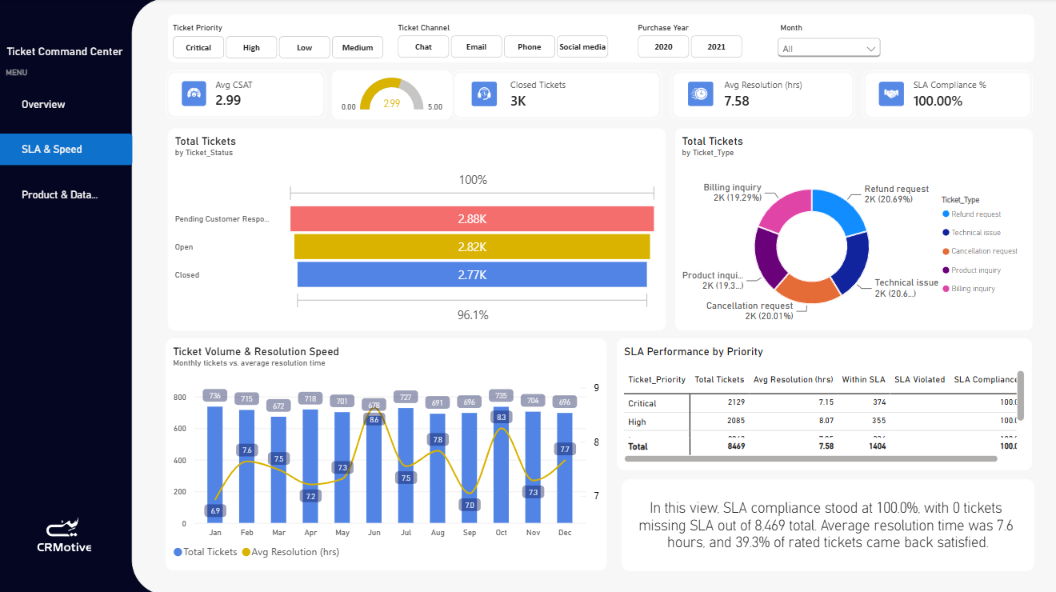

Layout of this report page (visuals, bound fields, positions):
{"tool":"powerbi","page":{"name":"SLA & Speed","canvas":[1280,720],"ordinal":1},"visuals":[{"type":"image","box":[0,0,205.2,719.9],"z":0},{"type":"actionButton","box":[0,108.8,163.8,38.8],"z":1000},{"type":"textbox","box":[10.3,77.8,92.3,32.5],"z":2000},{"type":"shape","box":[206,19.3,1045.4,58],"z":3000},{"type":"cardVisual","fields":{"Data":["FactTickets.Avg CSAT"]},"box":[203.8,87.3,193.8,58.8],"z":4000},{"type":"gauge","fields":{"Y":["FactTickets.Avg CSAT"]},"box":[403.8,87.3,144.8,59.3],"z":5000},{"type":"advancedSlicerVisual","title":"Ticket Priority","fields":{"Values":["DimPriority.Ticket_Priority"]},"box":[212.5,30,310,47.5],"z":6000},{"type":"advancedSlicerVisual","title":"Ticket Channel","fields":{"Values":["DimChannel.Ticket_Channel"]},"box":[483.8,30,270,47.5],"z":7000},{"type":"advancedSlicerVisual","title":"Purchase Year","fields":{"Values":["FactTickets.Purchase_Year"]},"box":[773.8,30,133.8,50],"z":8000},{"type":"slicer","title":"Purchase Month","fields":{"Values":["DimDate.Month"]},"box":[937.5,30,133.8,47.5],"z":9000},{"type":"actionButton","box":[0,162.5,163.8,38.8],"z":10000},{"type":"actionButton","box":[0,218.8,163.8,38.8],"z":11000},{"type":"cardVisual","fields":{"Data":["FactTickets.Closed Tickets"]},"box":[549.2,87.3,253.9,59.3],"z":12000},{"type":"funnel","fields":{"Category":["DimStatus.Ticket_Status"],"Y":["FactTickets.Total Tickets"]},"box":[206.1,156.5,600.7,244.2],"z":13000},{"type":"donutChart","fields":{"Category":["DimTicketType.Ticket_Type"],"Y":["FactTickets.Total Tickets"]},"box":[818,157.3,432,244],"z":14000},{"type":"lineClusteredColumnComboChart","title":"Ticket Volume & Resolution Speed","fields":{"Category":["DimDate.Month"],"Y":["FactTickets.Total Tickets"],"Y2":["FactTickets.Avg Resolution (hrs)"]},"box":[203.6,410,531.8,280],"z":15000},{"type":"pivotTable","title":"SLA Performance by Priority","fields":{"Rows":["DimPriority.Ticket_Priority"],"Values":["FactTickets.Total Tickets","FactTickets.Avg Resolution (hrs)","FactTickets.Within SLA","FactTickets.SLA Violated","FactTickets.SLA Compliance %"]},"box":[748.2,410,500.9,159.1],"z":16000},{"type":"cardVisual","fields":{"Data":["FactTickets.Avg Resolution (hrs)"]},"box":[813.3,87.3,222,59.3],"z":17000},{"type":"cardVisual","fields":{"Data":["FactTickets.SLA Compliance %"]},"box":[1044.9,87.3,205,59.3],"z":18000},{"type":"card","fields":{"Values":["FactTickets.Auto Summary Text sla&speed"]},"box":[753.8,580,497.5,110],"z":19000},{"type":"image","box":[41,623.7,80.8,45.8],"z":20000},{"type":"actionButton","box":[0,36.2,164.1,57.9],"z":20001}]}

Visuals, with their boxes on the page's 1280x720 design canvas (x1, y1, x2, y2). These are canvas units, not pixel positions in the 1056x592 screenshot, which may show the page scaled, cropped or inside an application window:
image: (x1=0, y1=0, x2=205, y2=720)
actionButton: (x1=0, y1=109, x2=164, y2=148)
textbox: (x1=10, y1=78, x2=103, y2=110)
shape: (x1=206, y1=19, x2=1251, y2=77)
cardVisual - FactTickets.Avg CSAT: (x1=204, y1=87, x2=398, y2=146)
gauge - FactTickets.Avg CSAT: (x1=404, y1=87, x2=549, y2=147)
"Ticket Priority" advancedSlicerVisual: (x1=212, y1=30, x2=522, y2=78)
"Ticket Channel" advancedSlicerVisual: (x1=484, y1=30, x2=754, y2=78)
"Purchase Year" advancedSlicerVisual: (x1=774, y1=30, x2=908, y2=80)
"Purchase Month" slicer: (x1=938, y1=30, x2=1071, y2=78)
actionButton: (x1=0, y1=162, x2=164, y2=201)
actionButton: (x1=0, y1=219, x2=164, y2=258)
cardVisual - FactTickets.Closed Tickets: (x1=549, y1=87, x2=803, y2=147)
funnel - DimStatus.Ticket_Status x FactTickets.Total Tickets: (x1=206, y1=156, x2=807, y2=401)
donutChart - DimTicketType.Ticket_Type x FactTickets.Total Tickets: (x1=818, y1=157, x2=1250, y2=401)
"Ticket Volume & Resolution Speed" lineClusteredColumnComboChart: (x1=204, y1=410, x2=735, y2=690)
"SLA Performance by Priority" pivotTable: (x1=748, y1=410, x2=1249, y2=569)
cardVisual - FactTickets.Avg Resolution (hrs): (x1=813, y1=87, x2=1035, y2=147)
cardVisual - FactTickets.SLA Compliance %: (x1=1045, y1=87, x2=1250, y2=147)
card - FactTickets.Auto Summary Text sla&speed: (x1=754, y1=580, x2=1251, y2=690)
image: (x1=41, y1=624, x2=122, y2=670)
actionButton: (x1=0, y1=36, x2=164, y2=94)
